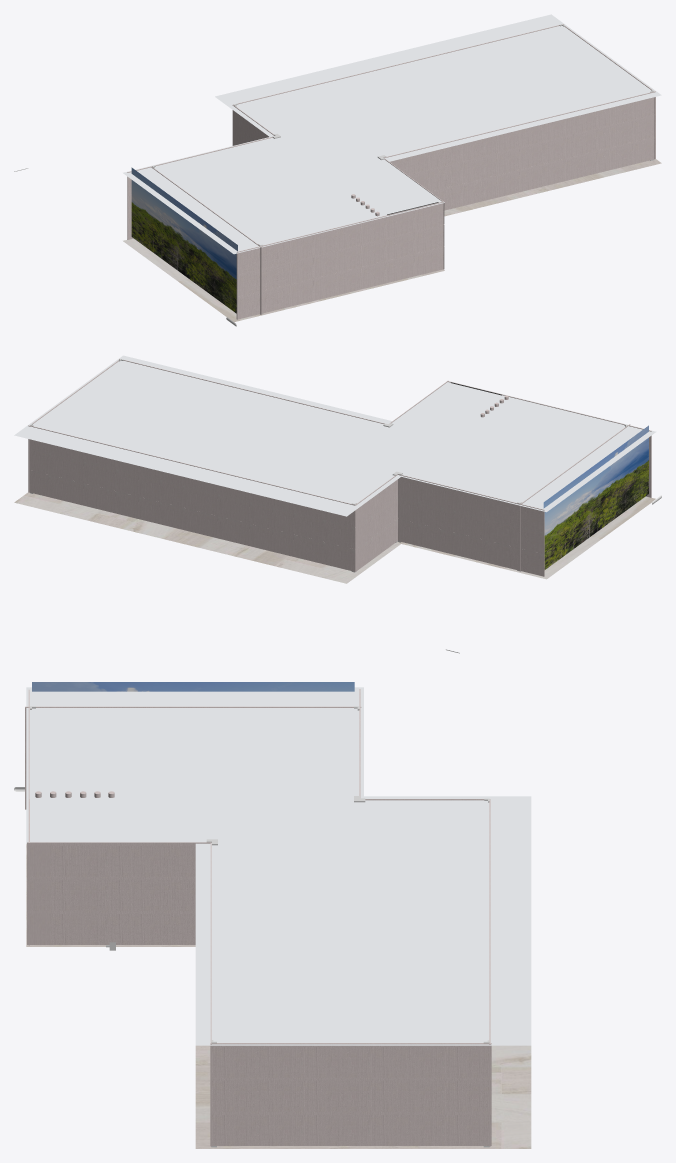
Rendered from mainhouse.fbx.
3 renders of one model, top to bottom at view 1: azimuth 30°, elevation 25°; view 2: azimuth 150°, elevation 25°; view 3: azimuth 270°, elevation 25°, orthographic. The views are drawn at different scales.
Visible parts, largest first — view 1: roof, roof.001, wall.001, wall.004, greenBG, wall.008, ground.001, ground, wall.005, wall.002; view 2: roof, roof.001, wall.002, enter1, wall.009, greenBG, ground, wall.006, wall.005, ground.001; view 3: roof, roof.001, wall.003, wall, ground, greenBG, wall.007.
Part boxes in pixels (x1,y1,x2,y2): roof: (215,14,661,177); roof.001: (123,137,444,254); wall.001: (384,91,655,210); wall.004: (236,216,385,319); greenBG: (131,167,237,313); wall.008: (385,201,443,283); ground.001: (123,238,444,322); ground: (444,159,661,216); wall.005: (232,105,274,145); wall.002: (127,137,272,239); roof: (14,355,455,516); roof.001: (394,381,656,512); wall.002: (398,474,544,576); enter1: (162,458,296,557); wall.009: (28,425,162,524); greenBG: (543,425,648,569); ground: (14,492,402,583); wall.006: (297,490,355,571); wall.005: (355,474,397,571); ground.001: (401,496,655,579); roof: (195,796,531,1045); roof.001: (26,687,363,843); wall.003: (210,1043,491,1145); wall: (27,842,210,944); ground: (195,1045,531,1148); greenBG: (32,682,354,691); wall.007: (25,706,361,809).
Size of the model in its own units: 2746 by 408 by 2054.
9 materials, 6 textured.
